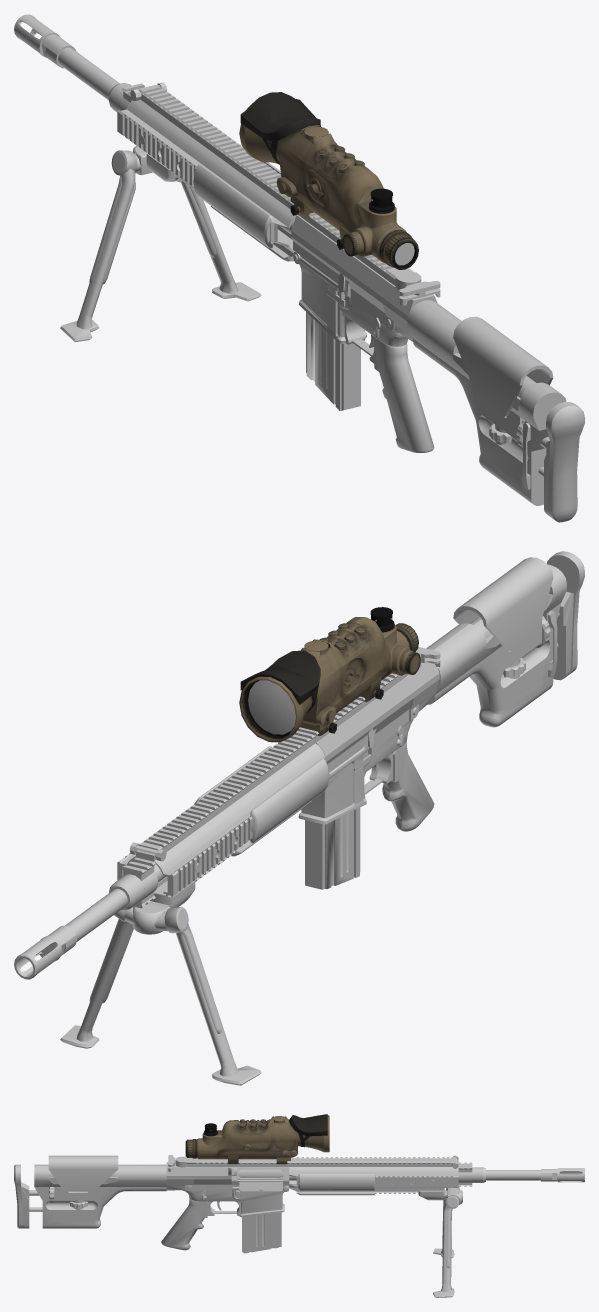
The model's file is Sniper.FBX.
3 views of the same model, one above another, from view 1: azimuth 30°, elevation 25°; view 2: azimuth 150°, elevation 25°; view 3: azimuth 270°, elevation 25° (orthographic). The views are drawn at different scales.
Visible parts, largest first — view 1: Rifle, Scope, Magazine, cocking; view 2: Rifle, Scope, Magazine, Scope_Lens; view 3: Rifle, Scope, Magazine.
Part boxes in pixels (x1,y1,x2,y2): Rifle: (14,14,584,522); Scope: (239,92,418,269); Magazine: (306,312,360,410); cocking: (399,281,440,305); Rifle: (14,551,584,1085); Scope: (239,607,420,742); Magazine: (305,807,360,889); Scope_Lens: (248,680,295,734); Rifle: (14,1155,584,1297); Scope: (185,1114,329,1164); Magazine: (242,1212,281,1253).
Size of the model in its own units: 2.96 by 4.56 by 14.87.
